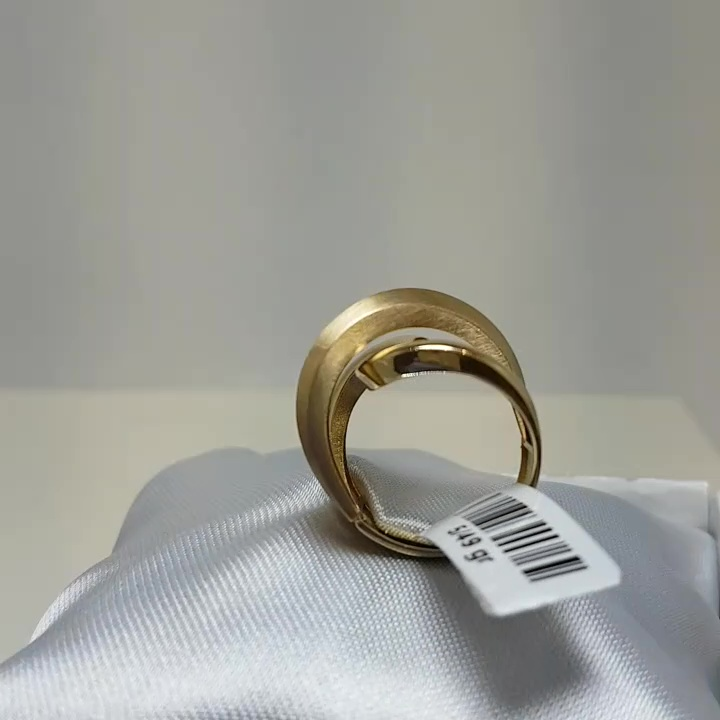Ring 3: (273, 267, 587, 587)
